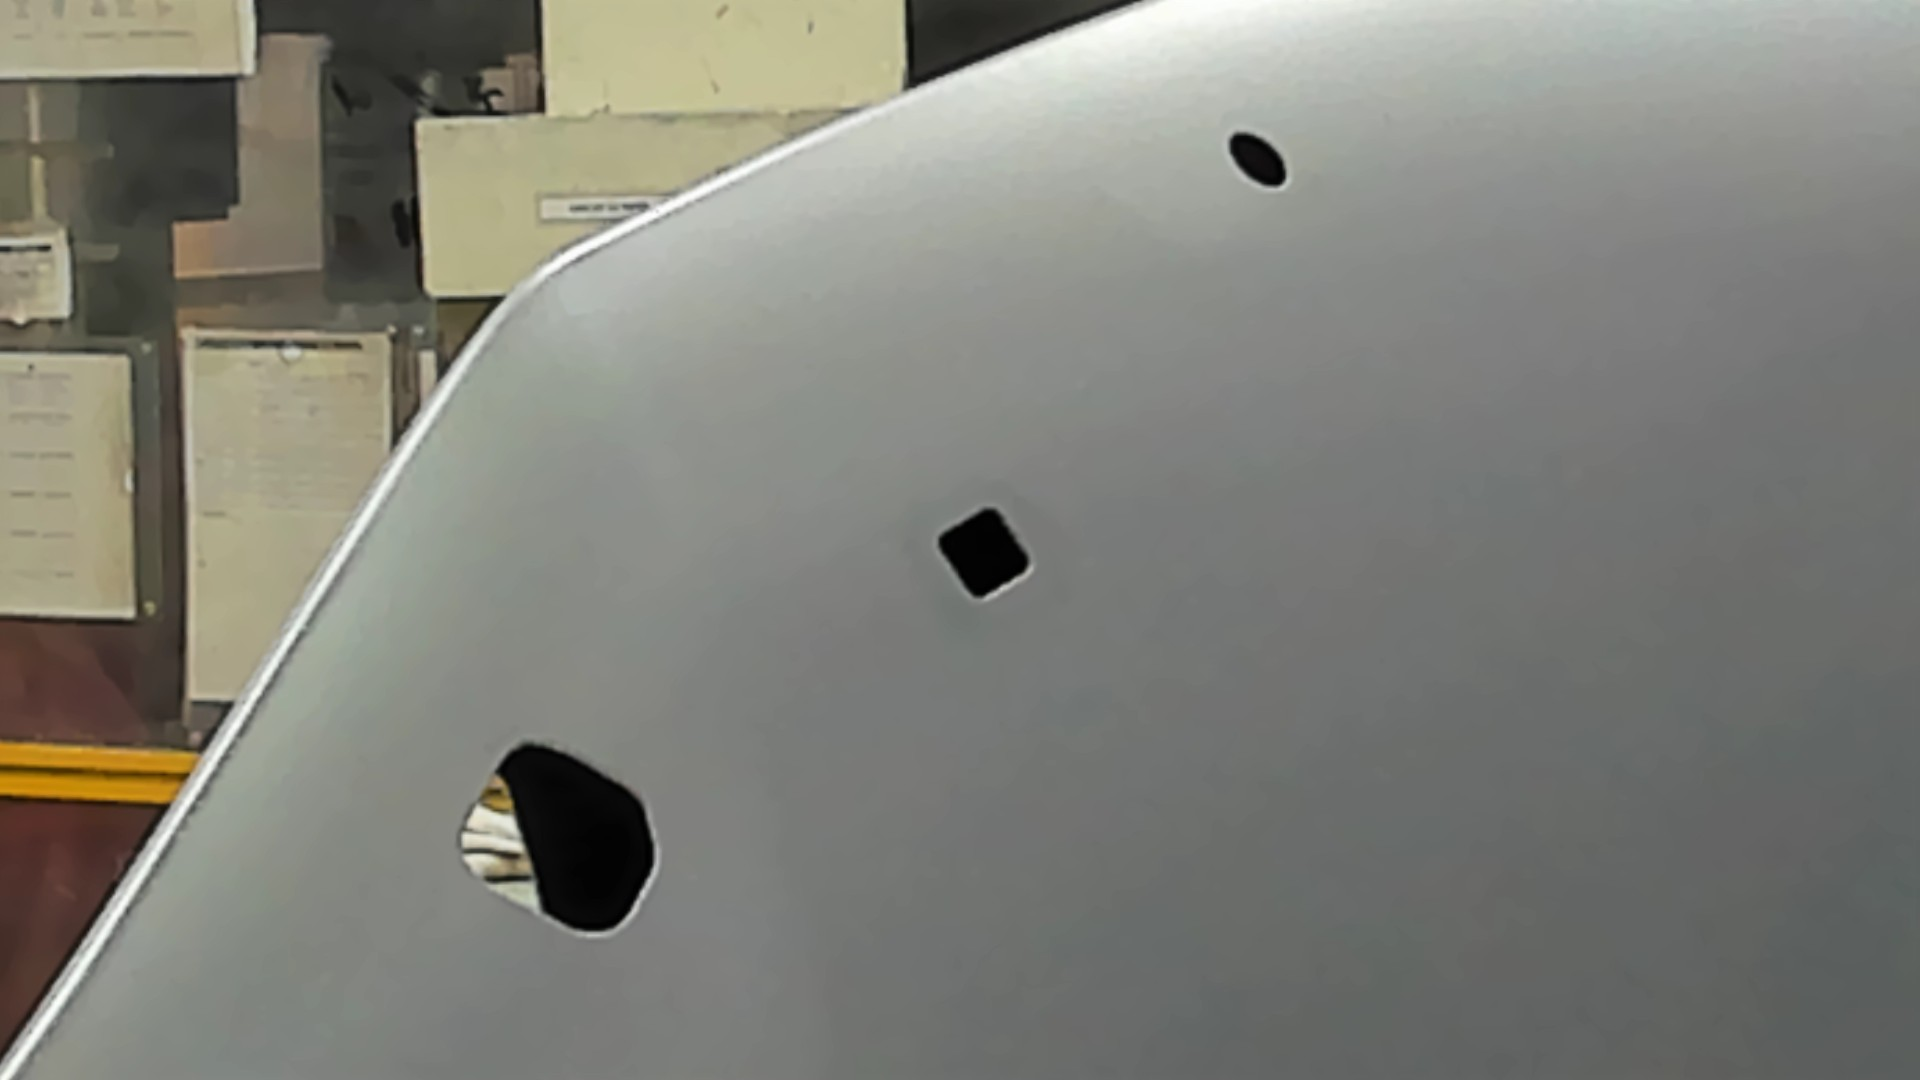chico: (1224, 129, 1295, 193)
grande: (450, 733, 665, 945)
mediano: (930, 496, 1040, 609)
